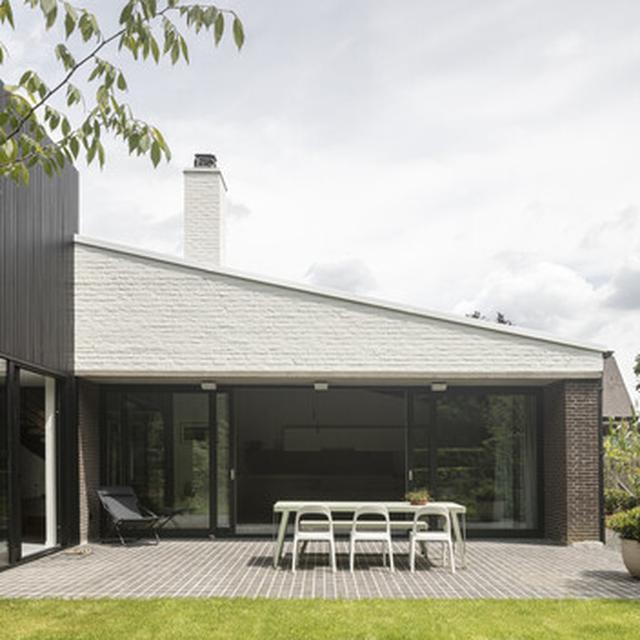building: (0, 88, 604, 562)
